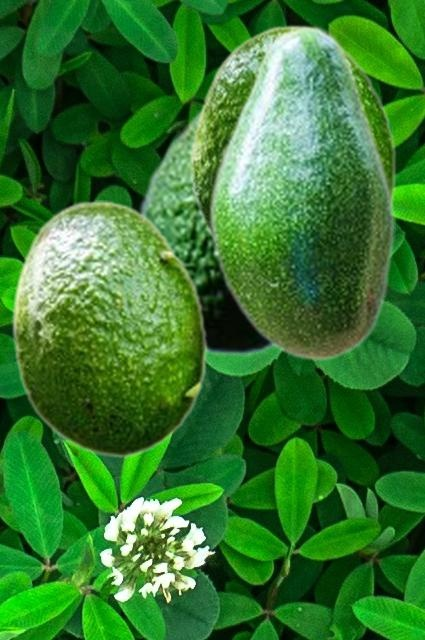avocado: (137, 45, 344, 356), (207, 24, 394, 361), (10, 200, 207, 457), (190, 24, 396, 238)
